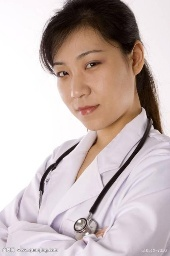noWear: (50, 39, 144, 130)
